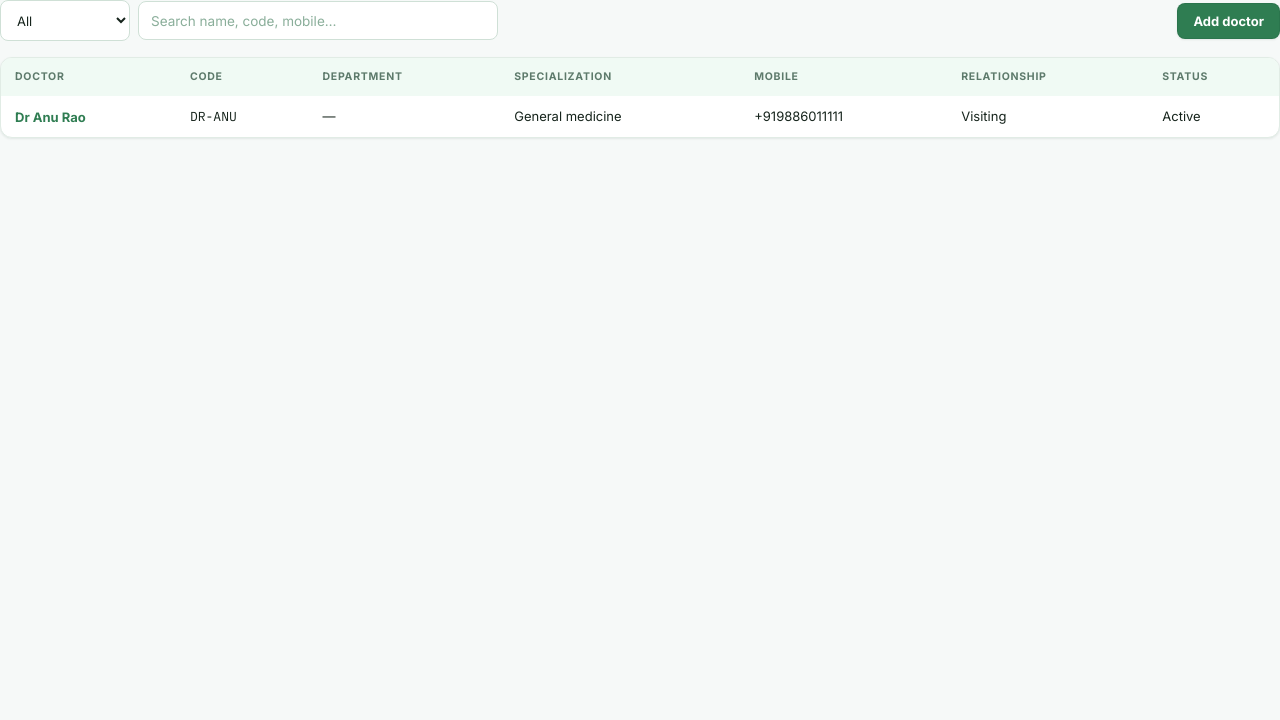
Test: DoctorsPage › opens Add doctor with the sections, a window, and document status
Expected: the button "Dr Anu Rao" is shown, [15,108,86,124]
Click the button "Add doctor": (1229, 20) [1177,2,1279,38]
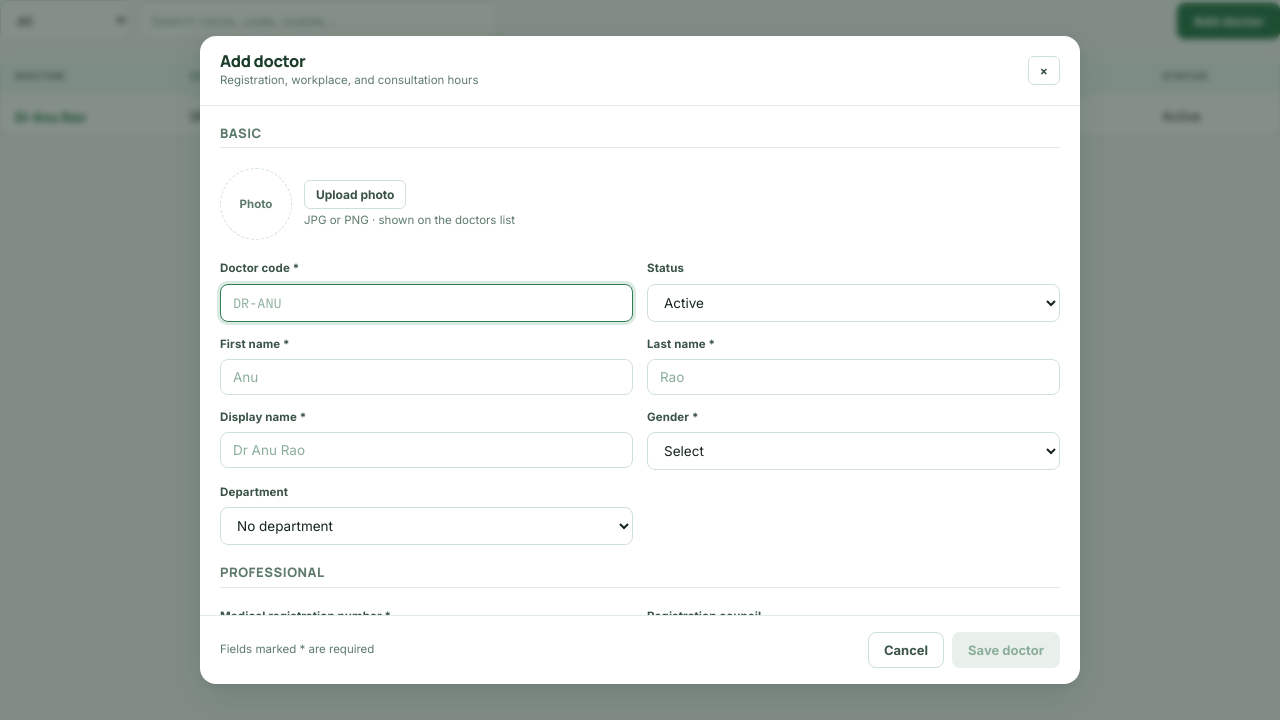
Now the button "Save doctor" is disabled, box [952,632,1060,668]
